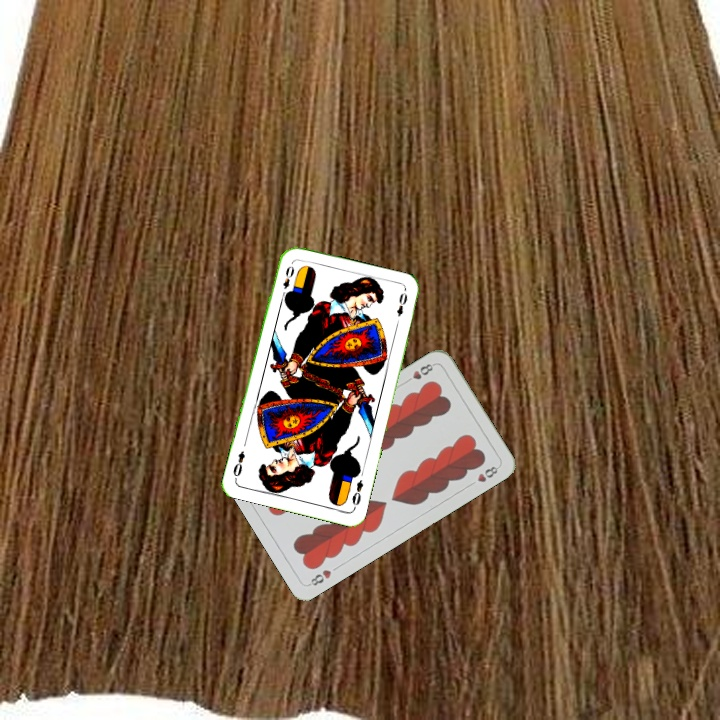EO: (278, 262, 297, 300), (348, 476, 366, 511)
H8: (401, 359, 437, 386), (305, 566, 334, 588)
